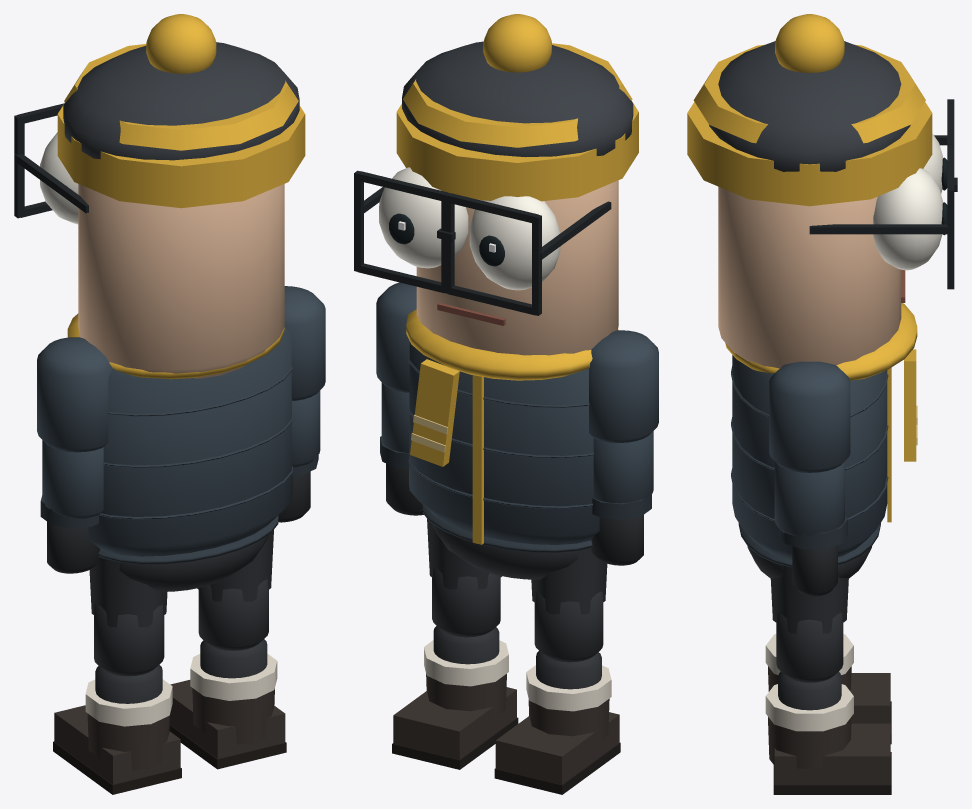
The model's file is spectator_winter_4.glb.
3 renders of one model, left to right at view 1: azimuth 30°, elevation 25°; view 2: azimuth 150°, elevation 25°; view 3: azimuth 270°, elevation 25°, orthographic. The views are drawn at different scales.
Visible parts, largest first — view 1: Head, RallySpectator, LeftShin, RightShin, LeftArm, LeftLeg, LeftForearm, RightLeg, RightArm, RightForearm; view 2: Head, RallySpectator, LeftShin, RightShin, LeftArm, LeftForearm, LeftLeg, RightLeg, RightArm, RightForearm; view 3: Head, RallySpectator, RightShin, RightArm, RightForearm, RightLeg, LeftShin.
Boxes of the visible parts, x1,y1,x2,y2 form: Head: (14, 14, 305, 378); RallySpectator: (67, 313, 293, 591); LeftShin: (53, 665, 181, 794); RightShin: (169, 639, 286, 769); LeftArm: (37, 337, 112, 452); LeftLeg: (89, 558, 167, 676); LeftForearm: (40, 440, 103, 573); RightLeg: (197, 530, 273, 650); RightArm: (284, 286, 325, 400); RightForearm: (278, 390, 320, 522); Head: (354, 14, 638, 355); RallySpectator: (406, 309, 618, 579); LeftShin: (494, 651, 620, 794); RightShin: (392, 626, 518, 769); LeftArm: (589, 330, 658, 442); LeftForearm: (591, 431, 653, 565); LeftLeg: (531, 548, 607, 662); RightLeg: (427, 519, 501, 637); RightArm: (376, 282, 416, 392); RightForearm: (380, 382, 423, 515); Head: (687, 14, 957, 368); RallySpectator: (725, 303, 917, 578); RightShin: (765, 671, 891, 794); RightArm: (769, 361, 850, 472); RightForearm: (774, 461, 847, 596); RightLeg: (770, 565, 848, 682); LeftShin: (765, 634, 891, 744).
Bounding box in the file's own units: 0.9 × 2.3 × 0.768.
